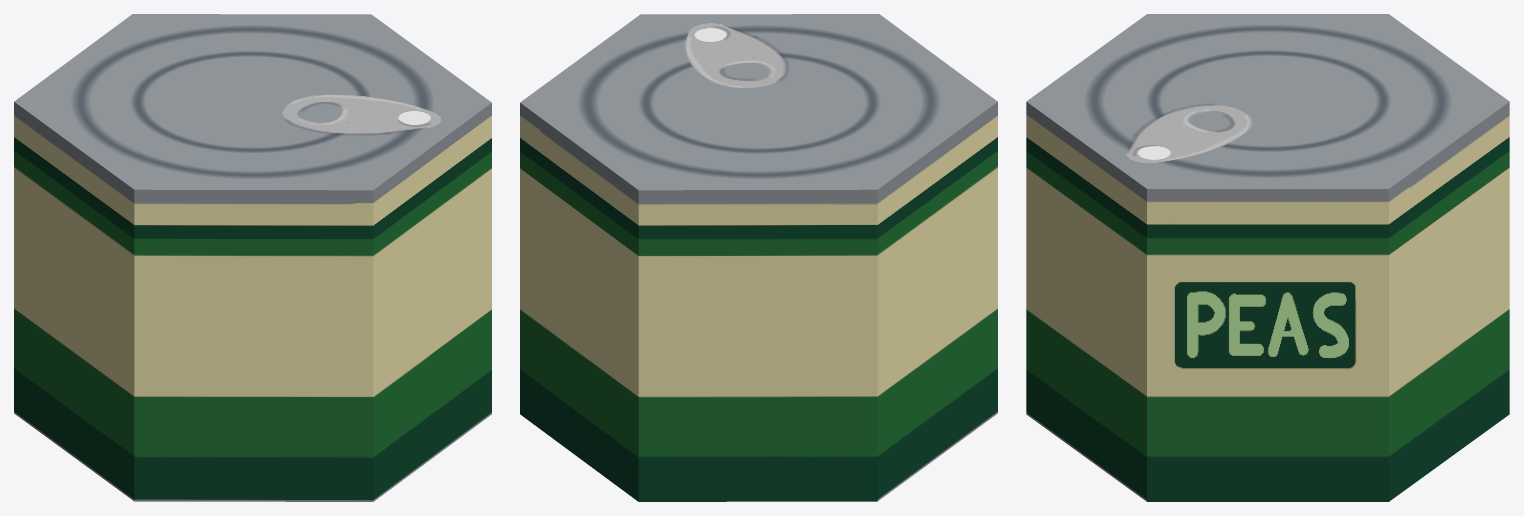
The model's file is cannedpeas.gltf.
3 renders of one model, left to right at view 1: azimuth 30°, elevation 25°; view 2: azimuth 150°, elevation 25°; view 3: azimuth 270°, elevation 25°, orthographic.
Parts seen in each view (by area): view 1: CannedPeas; view 2: CannedPeas; view 3: CannedPeas.
Part boxes in pixels (x1=…): CannedPeas: x1=14, y1=14, x2=491, y2=501; CannedPeas: x1=520, y1=14, x2=997, y2=501; CannedPeas: x1=1026, y1=14, x2=1509, y2=501.
Bounding box in the file's own units: 0.06 × 0.05 × 0.07.
1 material, 1 textured.
